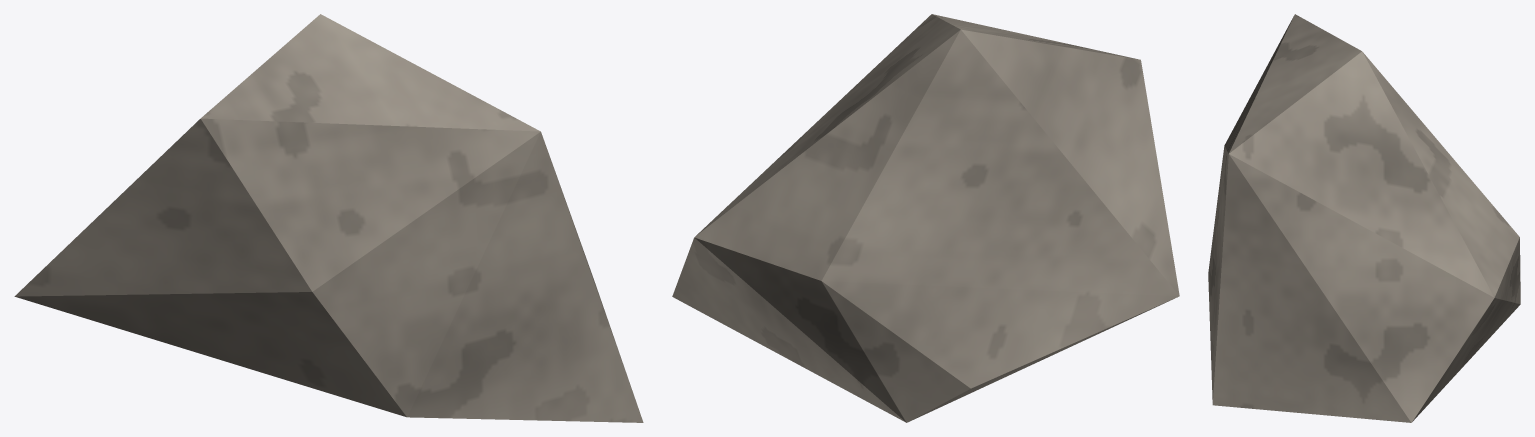
The model's file is rock_b.glb.
3 views of the same model, side by side, from view 1: azimuth 30°, elevation 25°; view 2: azimuth 150°, elevation 25°; view 3: azimuth 270°, elevation 25° (orthographic). The views are drawn at different scales.
Parts seen in each view (by area): view 1: RockB; view 2: RockB; view 3: RockB.
Boxes of the visible parts, bbox=[...] form: RockB: bbox=[14, 14, 643, 422]; RockB: bbox=[672, 14, 1179, 422]; RockB: bbox=[1208, 14, 1520, 422].
Bounding box in the file's own units: 0.8821 × 0.5506 × 0.5624.
Materials: 1 (1 with a texture image).
